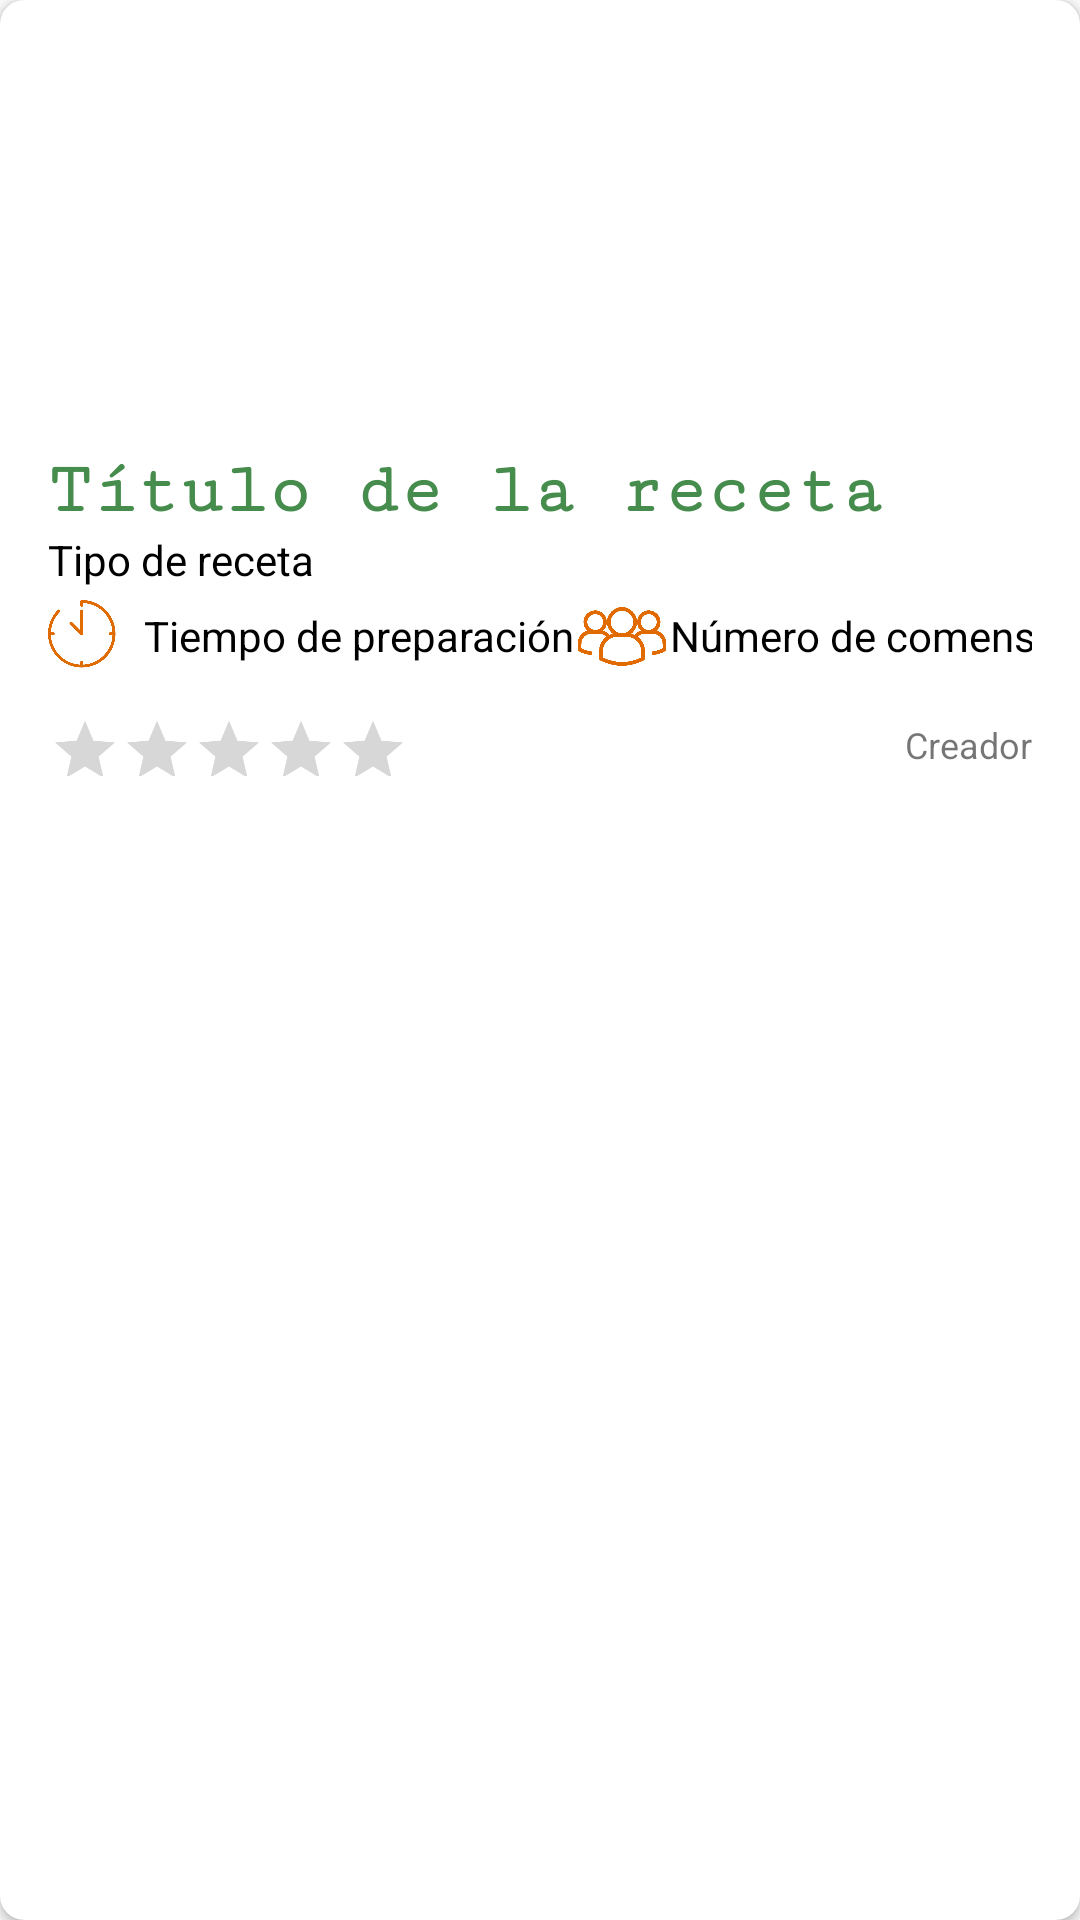

Point at icon controls on the screen. Image size 1080x1920, points as point (x, y).
clock: point (82, 634)
people newrecipe: point (622, 636)
